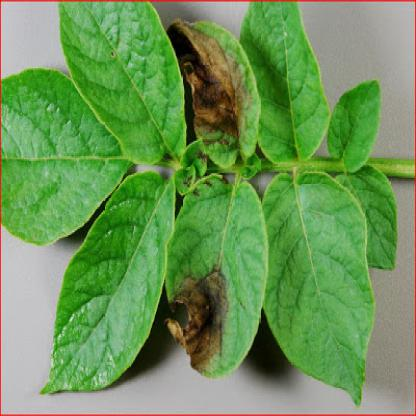potato leaf late blight: (157, 167, 268, 384), (161, 9, 260, 178)
